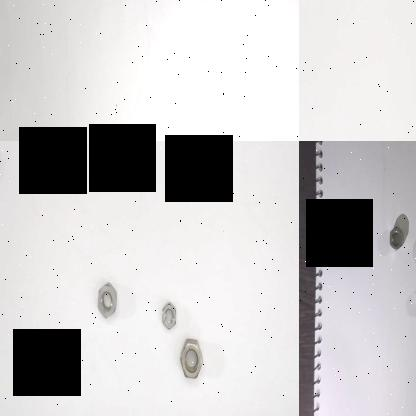NUTS: (178, 338, 204, 386), (91, 278, 117, 321), (158, 298, 178, 332), (386, 223, 404, 251)
